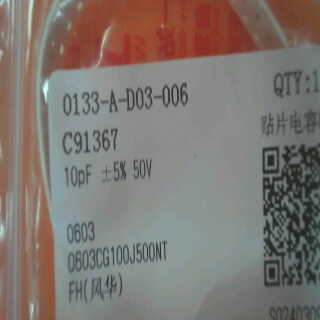10pF: (52, 163, 96, 187)
